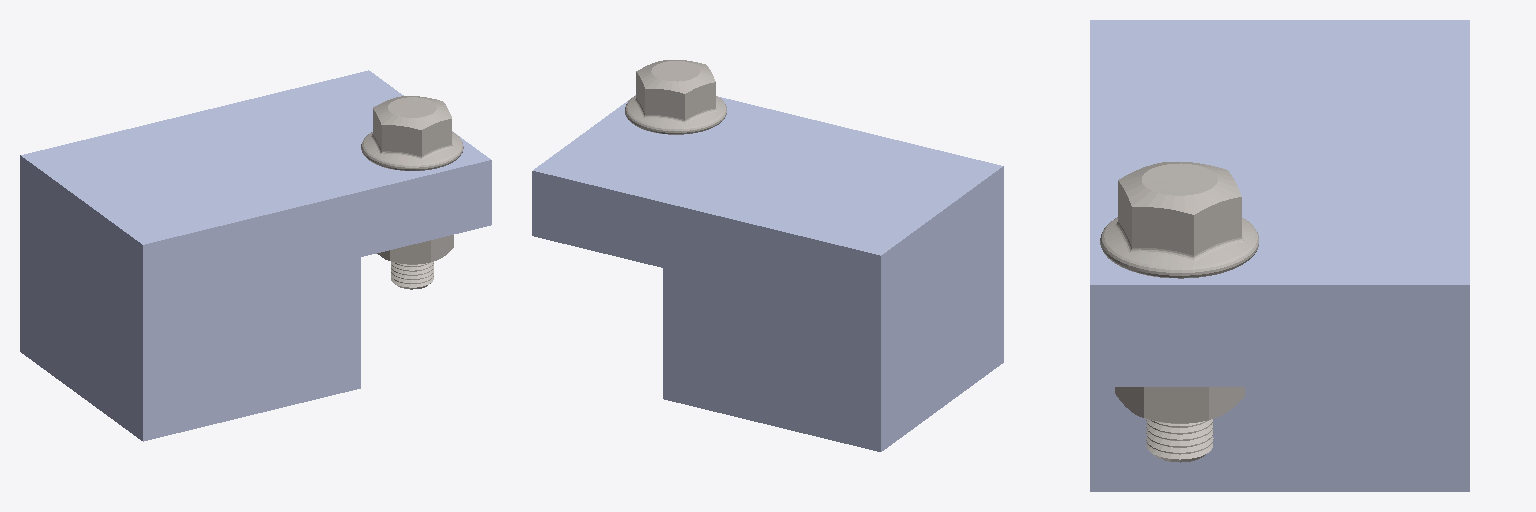
URDF robot description (battery_pack_description):
<?xml version="1.0" encoding="utf-8"?>
<!-- =================================================================================== -->
<!-- |    This document was autogenerated by xacro from battery_pack.xacro             | -->
<!-- |    EDITING THIS FILE BY HAND IS NOT RECOMMENDED                                 | -->
<!-- =================================================================================== -->
<!-- This URDF was automatically created by SolidWorks to URDF Exporter! Originally created by [author] ([email redacted]) 
     Commit Version: 1.5.1-0-g916b5db  Build Version: 1.5.7152.31018
     For more information, please see http://wiki.ros.org/sw_urdf_exporter -->
<robot name="battery_pack_description">
  <!-- <xacro:macro        name="battery_pack_description" > -->
  <!-- <link name="world"/>
   <joint name="fixed" type="fixed">
    <parent link="world"/>
    <child link="battery_pack_link"/>
  </joint> -->
  <link name="battery_pack_link">
    <inertial>
      <origin rpy="0 0 0" xyz="-0.009197 -0.0033716 0.00050198"/>
      <mass value="0.042108"/>
      <inertia ixx="7.2896E-06" ixy="-1.5922E-06" ixz="4.7264E-08" iyy="1.2235E-05" iyz="1.5516E-08" izz="1.1494E-05"/>
    </inertial>
    <visual>
      <origin rpy="0 0 0" xyz="0 0 0"/>
      <geometry>
        <mesh filename="package://cai_env/meshes/battery_pack_link.stl"/>
      </geometry>
      <material name="">
        <color rgba="0.79216 0.81961 0.93333 1"/>
      </material>
    </visual>
    <collision>
      <origin rpy="0 0 0" xyz="0 0 0"/>
      <geometry>
        <mesh filename="package://cai_env/meshes/battery_pack_link.stl"/>
      </geometry>
    </collision>
  </link>
  <gazebo reference="battery_pack_link">
    <material>Gazebo/Black</material>
  </gazebo>
  <!-- luoshuan_Link -->
  <link name="luoshuan_Link">
    <inertial>
      <origin rpy="0 0 0" xyz="-0.00727552152690838 -2.25969003231352E-09 1.26766364072495E-09"/>
      <mass value="0.00893667958625816"/>
      <inertia ixx="1.00378421041833E-07" ixy="-1.34648613496873E-13" ixz="7.18049496355464E-14" iyy="5.56080118731557E-07" iyz="5.31757414764227E-14" izz="5.5607994905101E-07"/>
    </inertial>
    <visual>
      <origin rpy="0 0 0" xyz="0 0 0"/>
      <geometry>
        <mesh filename="package://cai_env/meshes/luoshuan_Link.stl"/>
      </geometry>
      <material name="">
        <color rgba="0.776470588235294 0.756862745098039 0.737254901960784 1"/>
      </material>
    </visual>
    <collision>
      <origin rpy="0 0 0" xyz="0 0 0"/>
      <geometry>
        <mesh filename="package://cai_env/meshes/luoshuan_Link.stl"/>
      </geometry>
    </collision>
  </link>
  <joint name="luoshuan" type="revolute">
    <origin rpy="1.8719 1.5708 0" xyz="0.016544 -0.0094533 0"/>
    <parent link="battery_pack_link"/>
    <child link="luoshuan_Link"/>
    <axis xyz="1 0 0"/>
    <limit effort="0" lower="0" upper="0" velocity="0"/>
  </joint>
  <gazebo reference="luoshuan_Link">
    <material>Gazebo/Gray</material>
  </gazebo>
  <!-- luomu_Link -->
  <link name="luomu_Link">
    <inertial>
      <origin rpy="0 0 0" xyz="-5.53373788111933E-09 -3.46944695195361E-18 -0.00260060062372346"/>
      <mass value="0.00265736664598247"/>
      <inertia ixx="2.79753335550581E-08" ixy="5.00698636780671E-14" ixz="1.69540697008001E-14" iyy="2.79767293623279E-08" iyz="-6.75598040645383E-14" izz="4.46156091479721E-08"/>
    </inertial>
    <visual>
      <origin rpy="0 0 0" xyz="0 0 0"/>
      <geometry>
        <mesh filename="package://cai_env/meshes/luomu_Link.stl"/>
      </geometry>
      <material name="">
        <color rgba="0.776470588235294 0.756862745098039 0.737254901960784 1"/>
      </material>
    </visual>
    <collision>
      <origin rpy="0 0 0" xyz="0 0 0"/>
      <geometry>
        <mesh filename="package://cai_env/meshes/luomu_Link.stl"/>
      </geometry>
    </collision>
  </link>
  <joint name="luomu" type="fixed">
    <origin rpy="0 0 -0.57871" xyz="0.016544 -0.0094533 0"/>
    <parent link="battery_pack_link"/>
    <child link="luomu_Link"/>
    <axis xyz="0 0 1"/>
  </joint>
  <gazebo reference="luomu_Link">
    <material>Gazebo/Gray</material>
  </gazebo>
  <!-- </xacro:macro   > -->
</robot>

--- Facts derived from the render (not from the file) ---
Views: 3 orthographic renders of the robot side by side, from view 1: azimuth 30°, elevation 25°; view 2: azimuth 150°, elevation 25°; view 3: azimuth 270°, elevation 25°.
Robot: battery_pack_description — 3 links, 2 joints (1 revolute, 1 fixed); root link battery_pack_link; default pose: every joint at zero.
Visible links, largest first — view 1: battery_pack_link, luoshuan_Link, luomu_Link; view 2: battery_pack_link, luoshuan_Link; view 3: battery_pack_link, luoshuan_Link, luomu_Link.
Link boxes in pixels (x1,y1,x2,y2): battery_pack_link: (20, 70, 491, 441); luoshuan_Link: (361, 96, 463, 289); luomu_Link: (377, 235, 453, 264); battery_pack_link: (532, 95, 1003, 451); luoshuan_Link: (625, 60, 726, 134); battery_pack_link: (1090, 20, 1469, 491); luoshuan_Link: (1100, 162, 1258, 462); luomu_Link: (1115, 387, 1244, 423).
Size in the robot's own frame: 0.0556 by 0.0338 by 0.0366 metres.
3 mesh visuals loaded from 3 distinct referenced files (3 binary STL).
